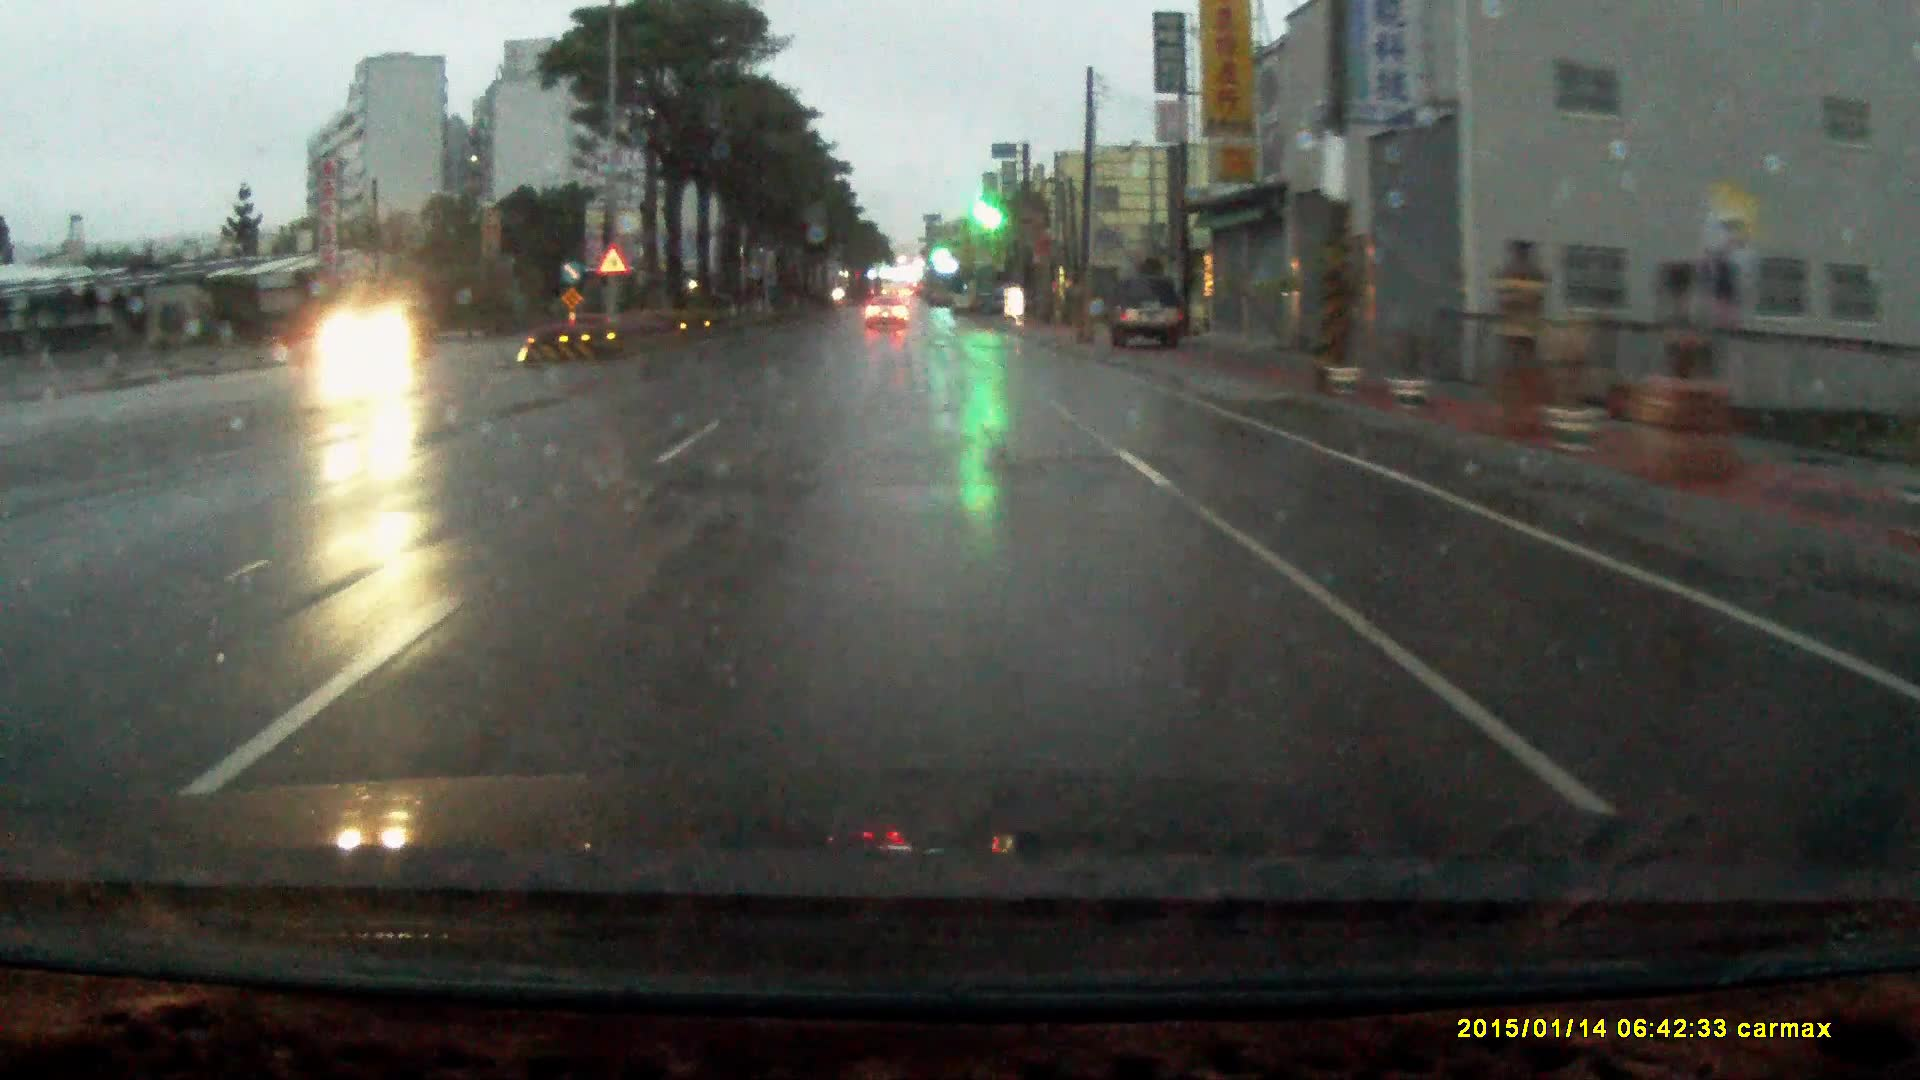vehicle: (1108, 280, 1188, 356), (864, 299, 910, 336)
